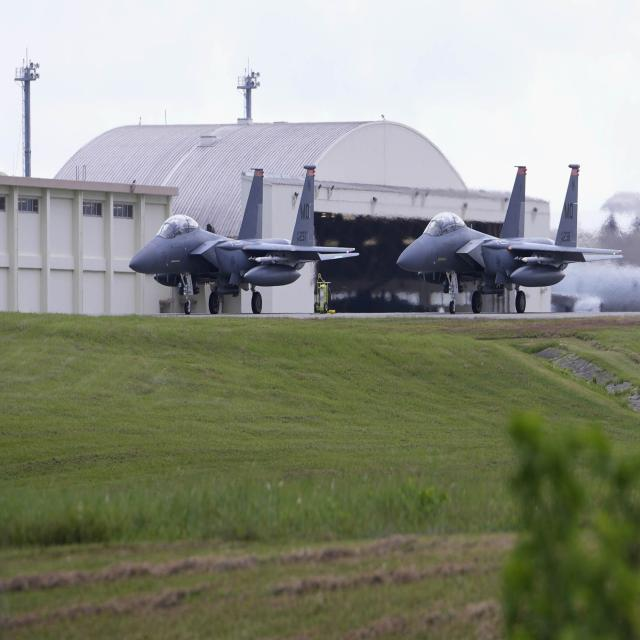F15: (389, 136, 628, 354), (119, 155, 362, 353)
